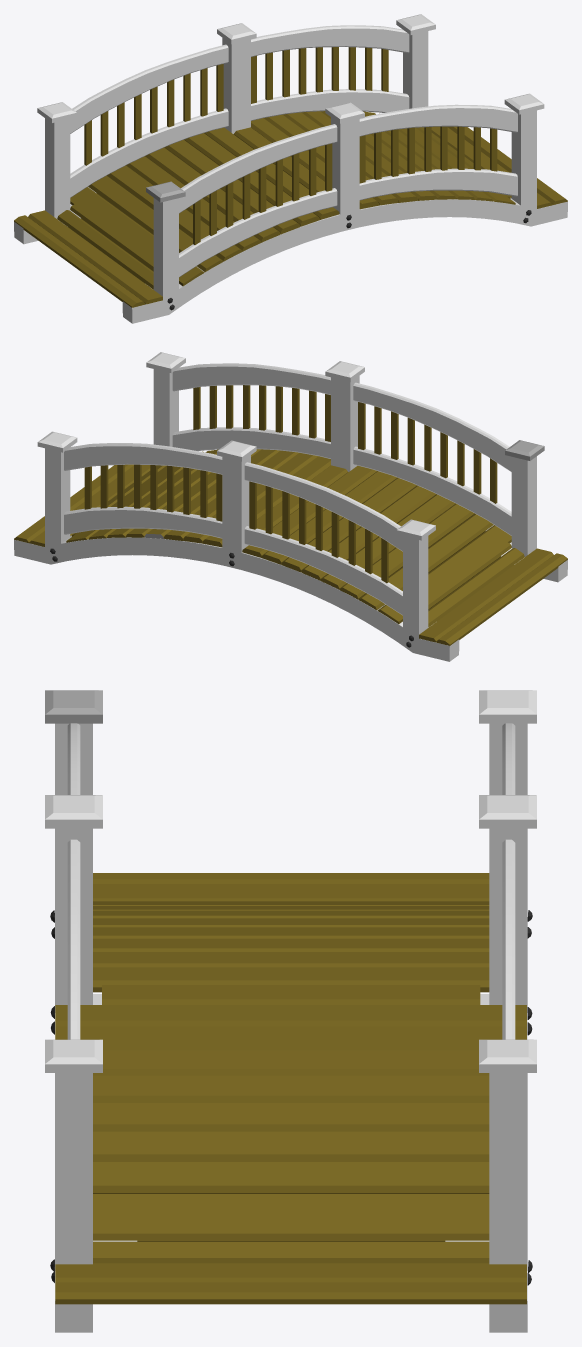
File: bridgey2_cowgame.fbx
3 renders of one model, top to bottom at view 1: azimuth 30°, elevation 25°; view 2: azimuth 150°, elevation 25°; view 3: azimuth 270°, elevation 25°, orthographic. The views are drawn at different scales.
Parts seen in each view (by area): view 1: polySurface4; view 2: polySurface4; view 3: polySurface4.
Part boxes in pixels (left/top/right/bottom): polySurface4: left=14, top=14, right=567, bottom=323; polySurface4: left=14, top=352, right=567, bottom=661; polySurface4: left=45, top=690, right=536, bottom=1332.
Size of the model in its own units: 0.2644 by 0.0916 by 0.1292.
